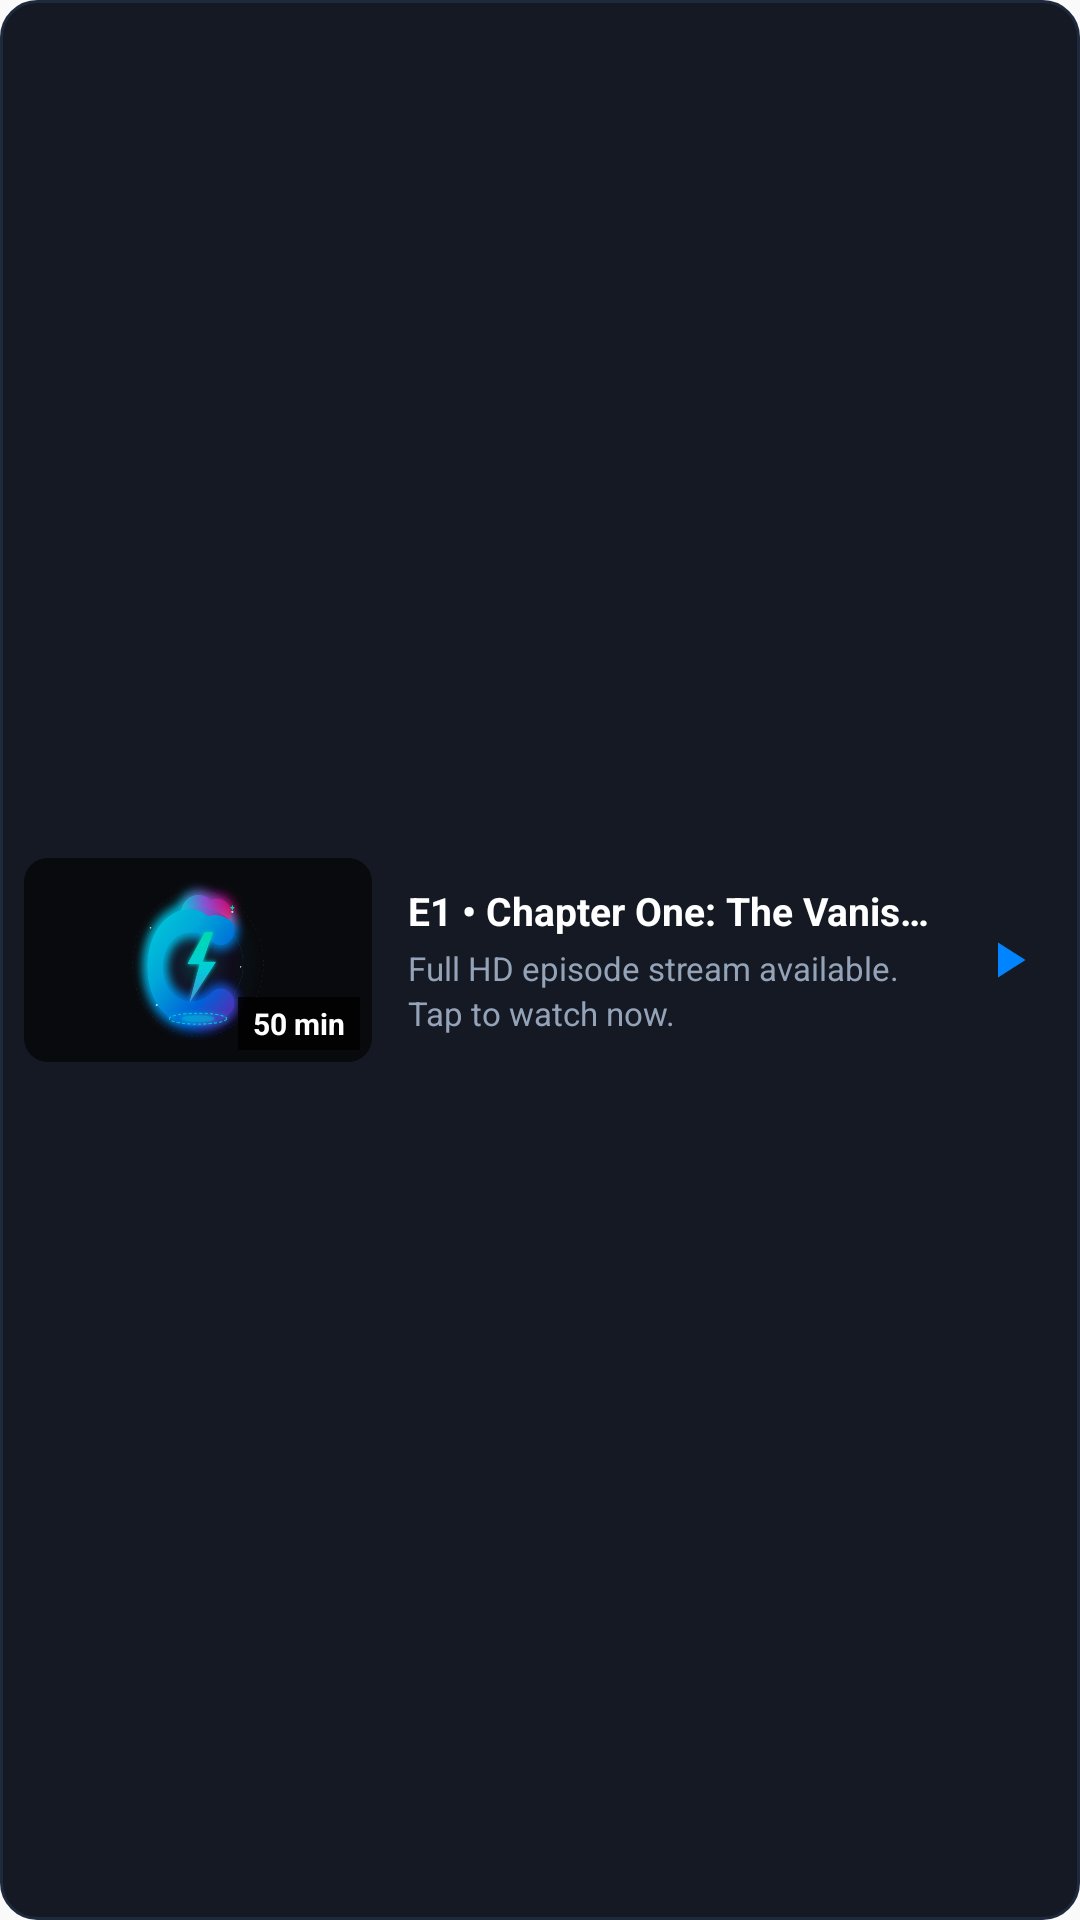

Where to tap for icons on this 1080 x 1920 app screen, as [x,y]:
Play Episode: [1011,960]
